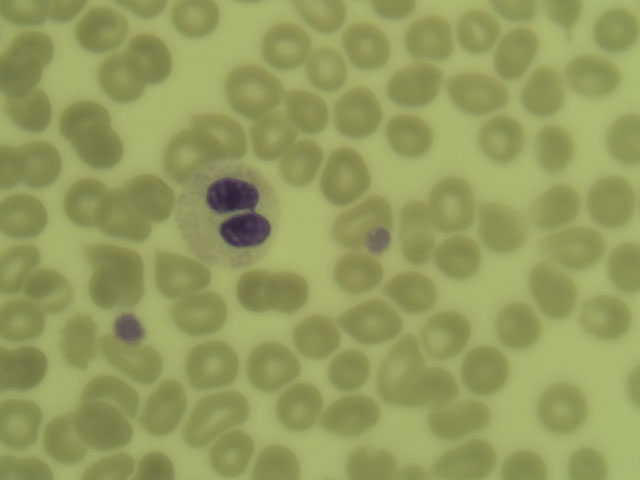Platelets: (116, 317, 141, 339), (368, 233, 386, 247)
RBC: (81, 243, 144, 306), (187, 338, 241, 390), (170, 285, 224, 337), (537, 220, 598, 264), (187, 392, 240, 438), (325, 144, 367, 202), (53, 313, 97, 368), (228, 64, 281, 108), (532, 265, 581, 312), (273, 383, 322, 429), (103, 336, 159, 376), (434, 437, 491, 476), (81, 382, 139, 419), (207, 431, 253, 477), (479, 203, 526, 248), (127, 173, 170, 222), (1, 48, 44, 97), (401, 196, 436, 256), (430, 179, 471, 230), (434, 236, 482, 279), (347, 437, 395, 480), (422, 312, 470, 354), (387, 266, 435, 308), (496, 305, 544, 347), (459, 349, 507, 391), (407, 363, 455, 405), (581, 298, 629, 340), (539, 383, 587, 425), (138, 382, 179, 431), (344, 299, 399, 335), (454, 8, 494, 57), (233, 268, 278, 311), (1, 397, 40, 445), (334, 390, 384, 427), (46, 411, 87, 456), (248, 342, 288, 388), (1, 346, 44, 388), (2, 194, 47, 234), (66, 176, 105, 222), (437, 395, 489, 429), (332, 91, 374, 133), (522, 67, 565, 108), (537, 184, 580, 225), (591, 178, 634, 219), (572, 54, 615, 95), (534, 123, 577, 164), (496, 30, 539, 71), (249, 112, 292, 153), (168, 123, 211, 164), (198, 110, 241, 151), (262, 24, 305, 65), (304, 46, 347, 87), (346, 24, 389, 65), (106, 192, 149, 233), (73, 123, 116, 164), (61, 96, 104, 137), (100, 51, 143, 92), (127, 36, 170, 77), (411, 13, 454, 54), (80, 9, 123, 50), (10, 32, 53, 73), (9, 85, 52, 126), (595, 7, 638, 48), (152, 260, 205, 293), (386, 115, 433, 152), (345, 191, 392, 228), (389, 63, 436, 100), (477, 122, 524, 159), (563, 444, 611, 480), (261, 270, 303, 311), (19, 143, 62, 183), (450, 75, 502, 108), (609, 111, 640, 166), (498, 448, 551, 480), (332, 253, 379, 289), (297, 313, 337, 355), (174, 1, 217, 40), (303, 1, 346, 40), (1, 244, 35, 293), (383, 341, 417, 389), (285, 138, 320, 183), (1, 140, 35, 186), (257, 444, 298, 480), (2, 449, 49, 480), (331, 350, 367, 390), (1, 448, 47, 479), (286, 88, 321, 128), (1, 302, 43, 334), (3, 304, 45, 336), (608, 247, 640, 289), (123, 1, 170, 24), (1, 1, 46, 25), (546, 1, 586, 22), (496, 1, 537, 20)
WBC: (181, 167, 278, 262)
